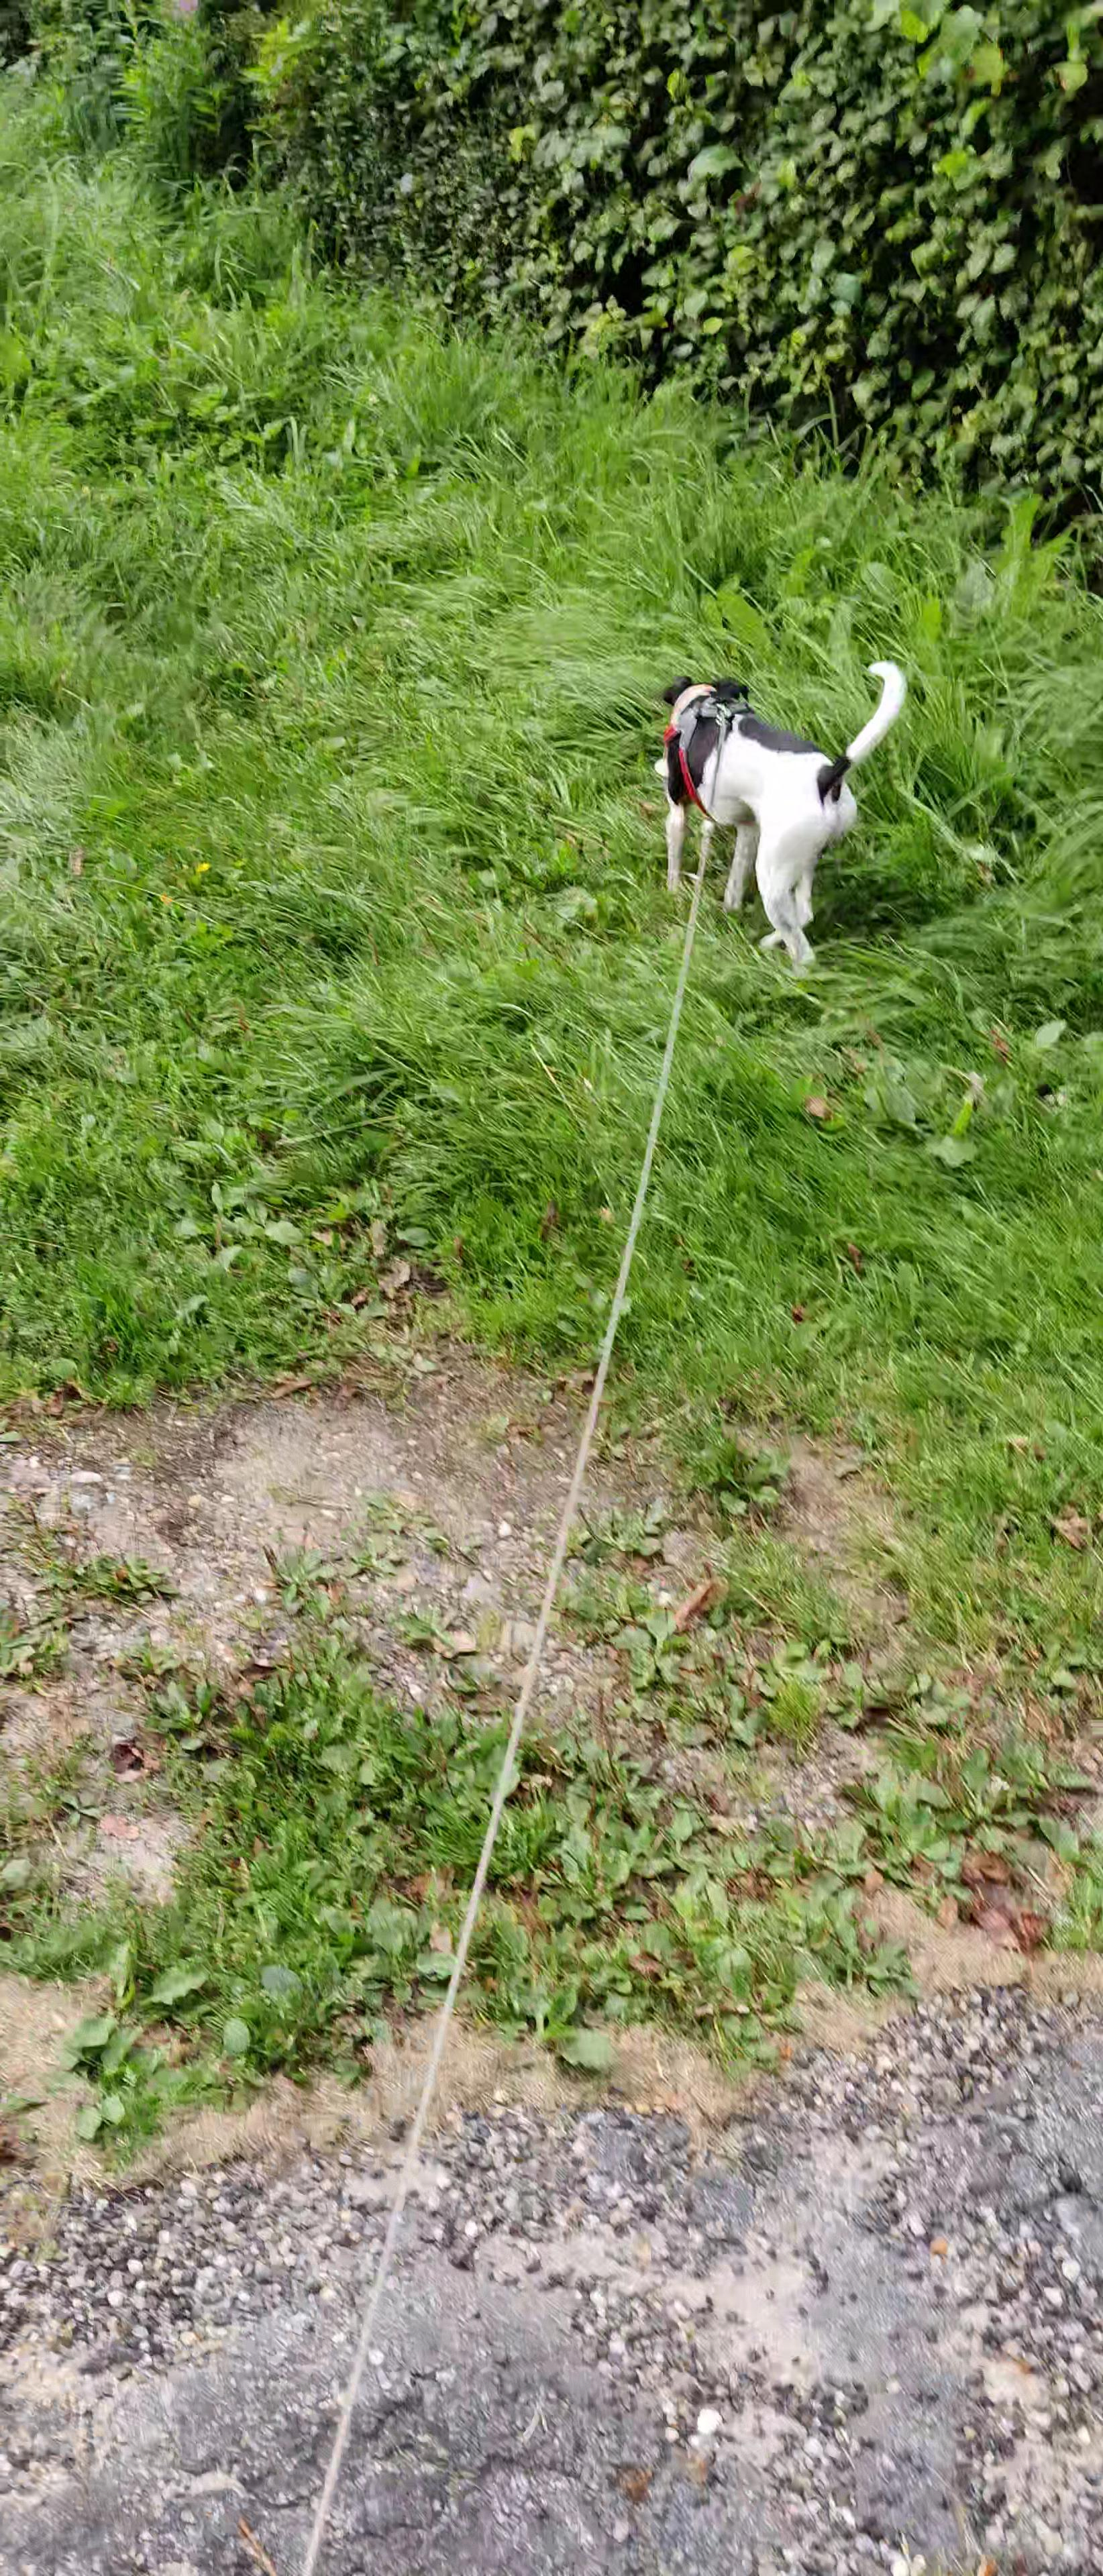Dog: (648, 654, 909, 969)
